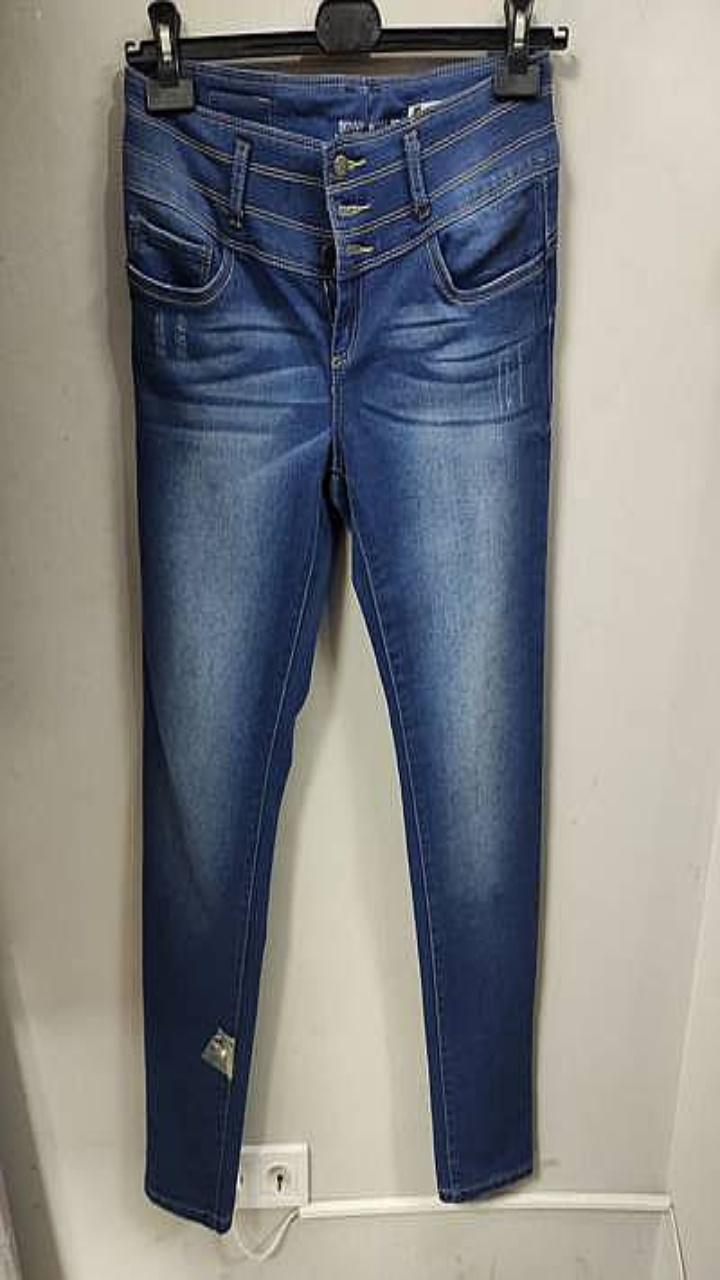Jeans: (123, 54, 559, 1231)
